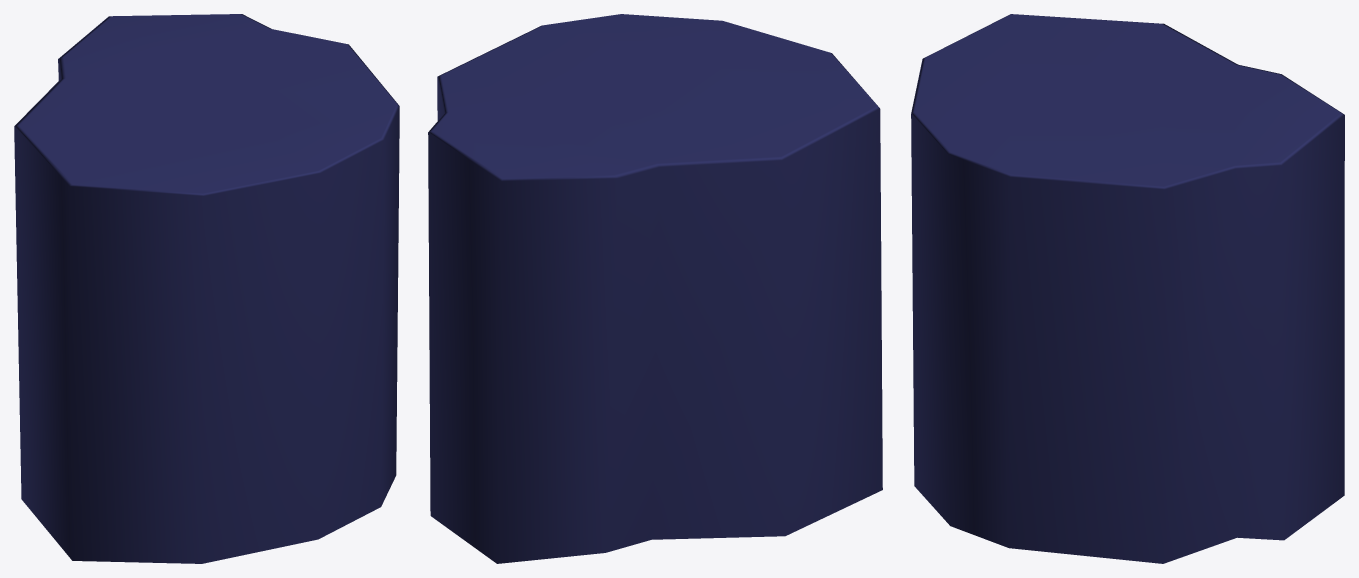
The model's file is platform1.fbx.
The picture shows the model from 3 angles, left to right: view 1: azimuth 30°, elevation 25°; view 2: azimuth 150°, elevation 25°; view 3: azimuth 270°, elevation 25°; orthographic projection. The views are drawn at different scales.
Parts seen in each view (by area): view 1: platform1; view 2: platform1; view 3: platform1.
Boxes of the visible parts, bbox=[...] form: platform1: bbox=[14, 14, 399, 563]; platform1: bbox=[428, 14, 882, 563]; platform1: bbox=[911, 14, 1344, 563].
Bounding box in the file's own units: 413 × 421 × 431.
